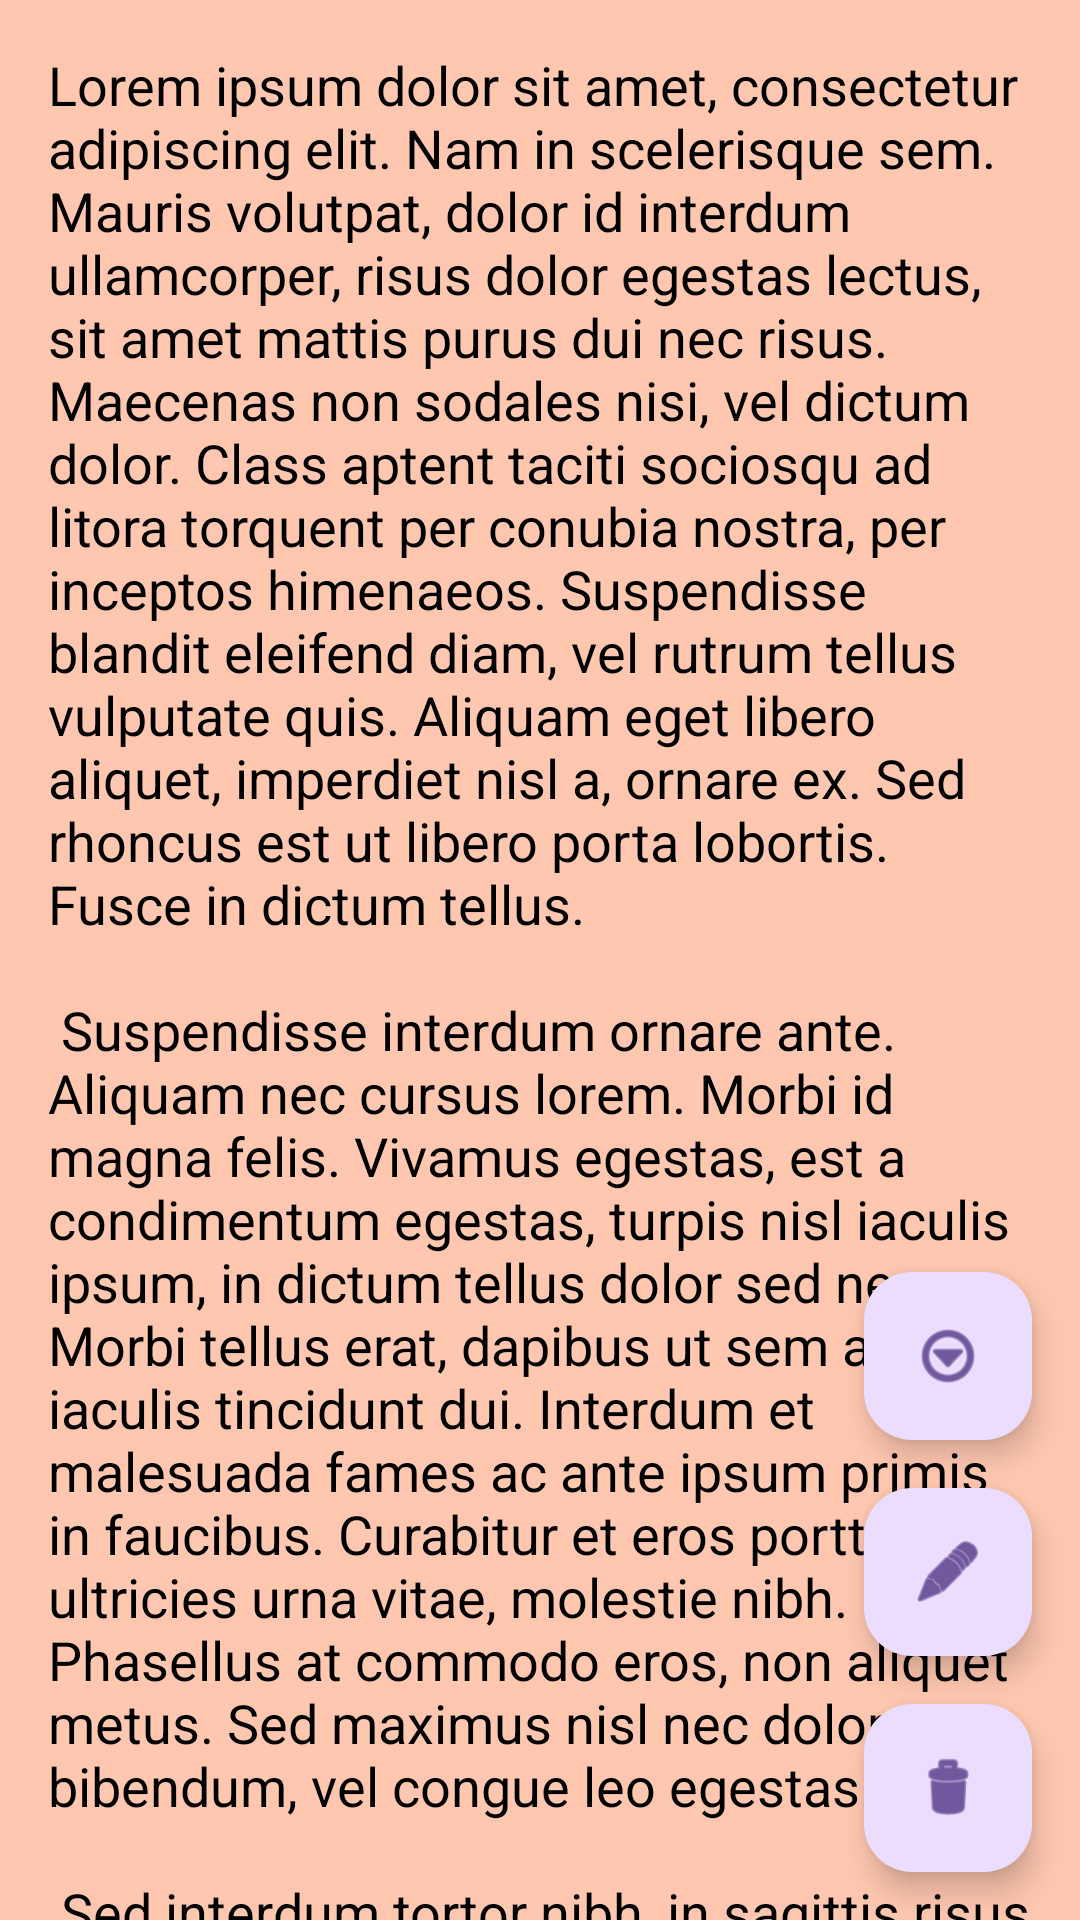

Icon click points for this 1080px x 1920px phone screenshot, format (x=x, y=y):
delete: (x=948, y=1788)
edit: (x=948, y=1572)
more: (x=948, y=1356)
